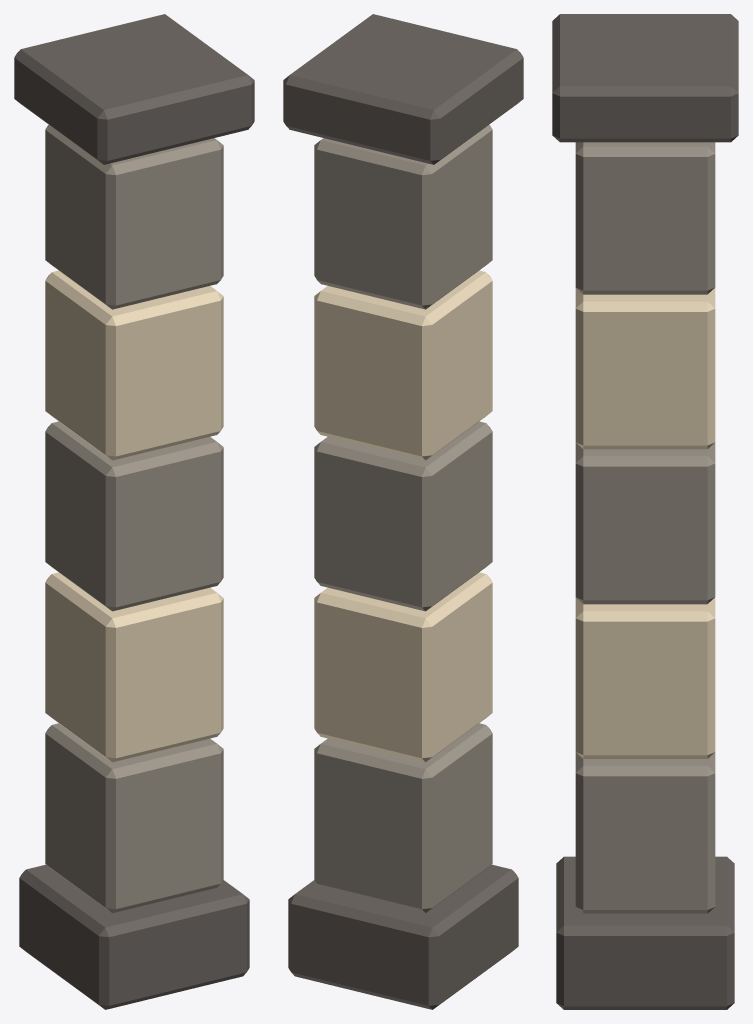
File: PR_Tier_TasSutun.fbx
The picture shows the model from 3 angles, left to right: view 1: azimuth 30°, elevation 25°; view 2: azimuth 150°, elevation 25°; view 3: azimuth 270°, elevation 25°; orthographic projection. The views are drawn at different scales.
Parts seen in each view (by area): view 1: PR_Tier_TasSutun; view 2: PR_Tier_TasSutun; view 3: PR_Tier_TasSutun.
Boxes of the visible parts, left/top/right/bottom form: PR_Tier_TasSutun: left=14, top=14, right=254, bottom=1009; PR_Tier_TasSutun: left=283, top=14, right=523, bottom=1009; PR_Tier_TasSutun: left=552, top=14, right=738, bottom=1009.
Bounding box in the file's own units: 0.48 × 2.63 × 0.48.
Materials: 1 (1 with a texture image).
